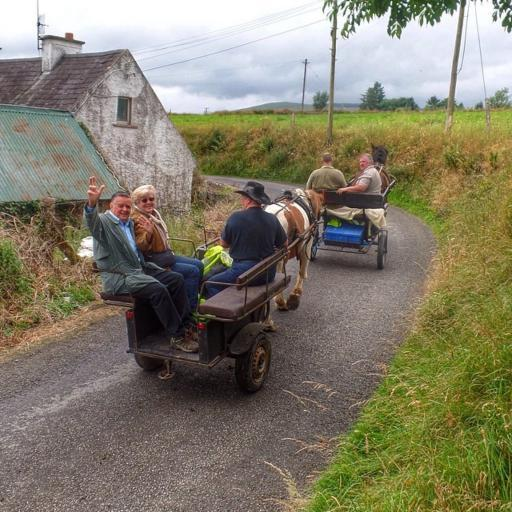horse: (264, 190, 326, 310), (352, 144, 393, 238)
